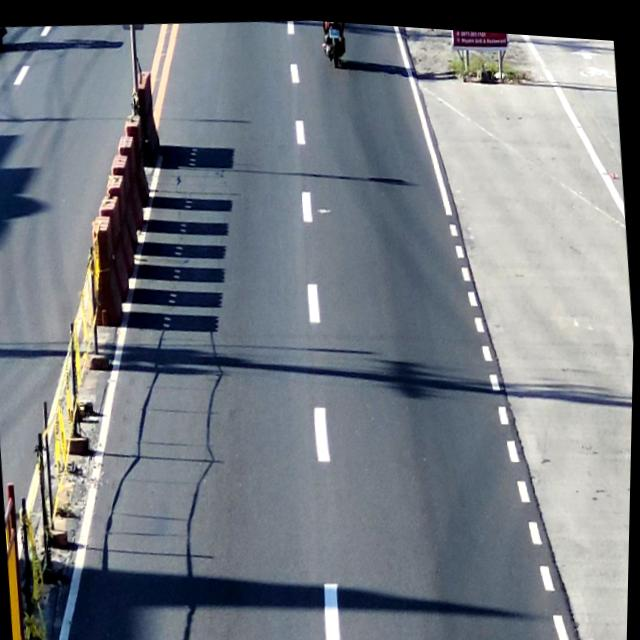Motorcycle: (318, 17, 352, 69)
